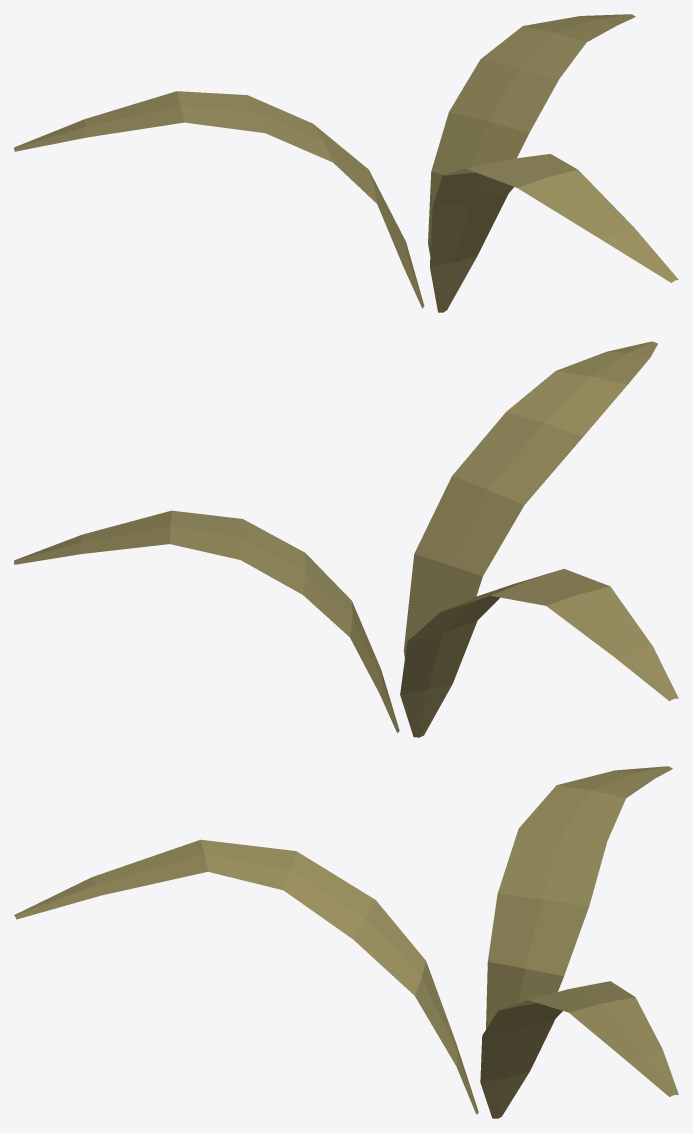
File: sugar_kelp.glb
3 views of the same model, one above another, from view 1: azimuth 30°, elevation 25°; view 2: azimuth 150°, elevation 25°; view 3: azimuth 270°, elevation 25° (orthographic). The views are drawn at different scales.
Parts seen in each view (by area): view 1: sugar_kelp; view 2: sugar_kelp; view 3: sugar_kelp.
Part boxes in pixels (x1,y1,x2,y2): sugar_kelp: (14, 14, 678, 312); sugar_kelp: (14, 341, 678, 737); sugar_kelp: (14, 766, 678, 1118).
Size of the model in its own units: 2.72 by 0.9989 by 2.46.
